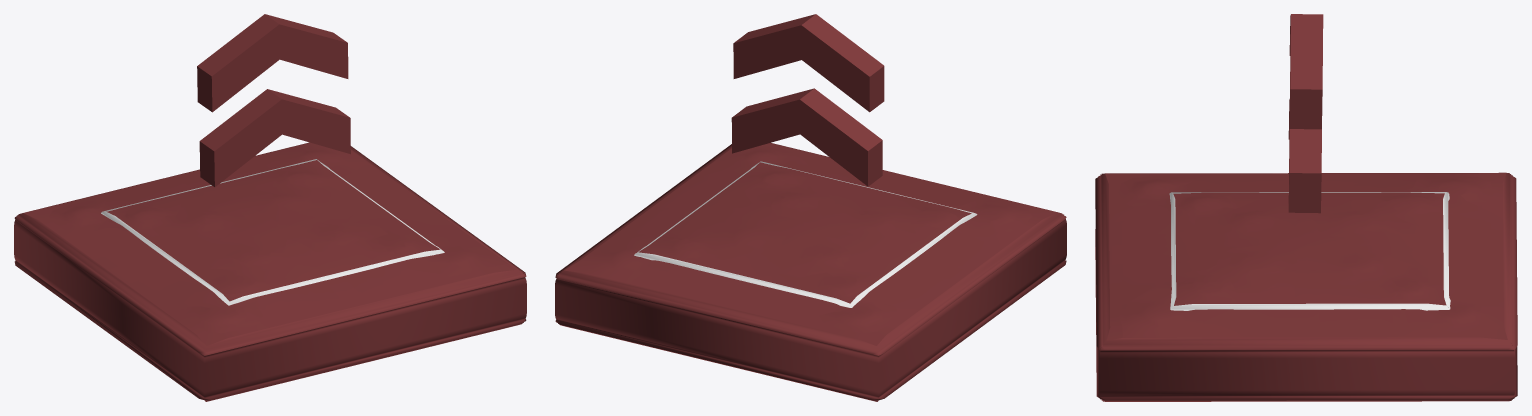
File: bounce_pad.fbx
3 renders of one model, left to right at view 1: azimuth 30°, elevation 25°; view 2: azimuth 150°, elevation 25°; view 3: azimuth 270°, elevation 25°, orthographic. The views are drawn at different scales.
Visible parts, largest first — view 1: polySurface2; view 2: polySurface2; view 3: polySurface2.
Boxes of the visible parts, box(x1,y1,x2,y2) form: polySurface2: box(14, 14, 526, 401); polySurface2: box(555, 14, 1066, 401); polySurface2: box(1095, 14, 1517, 401).
Bounding box in the file's own units: 417 × 336 × 422.
